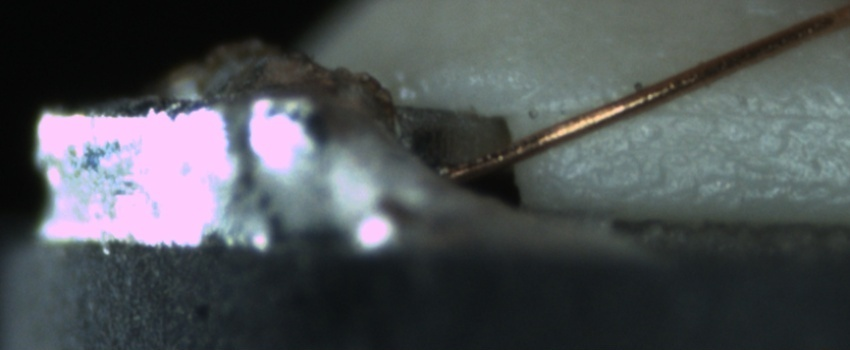DL: (566, 79, 846, 145)
